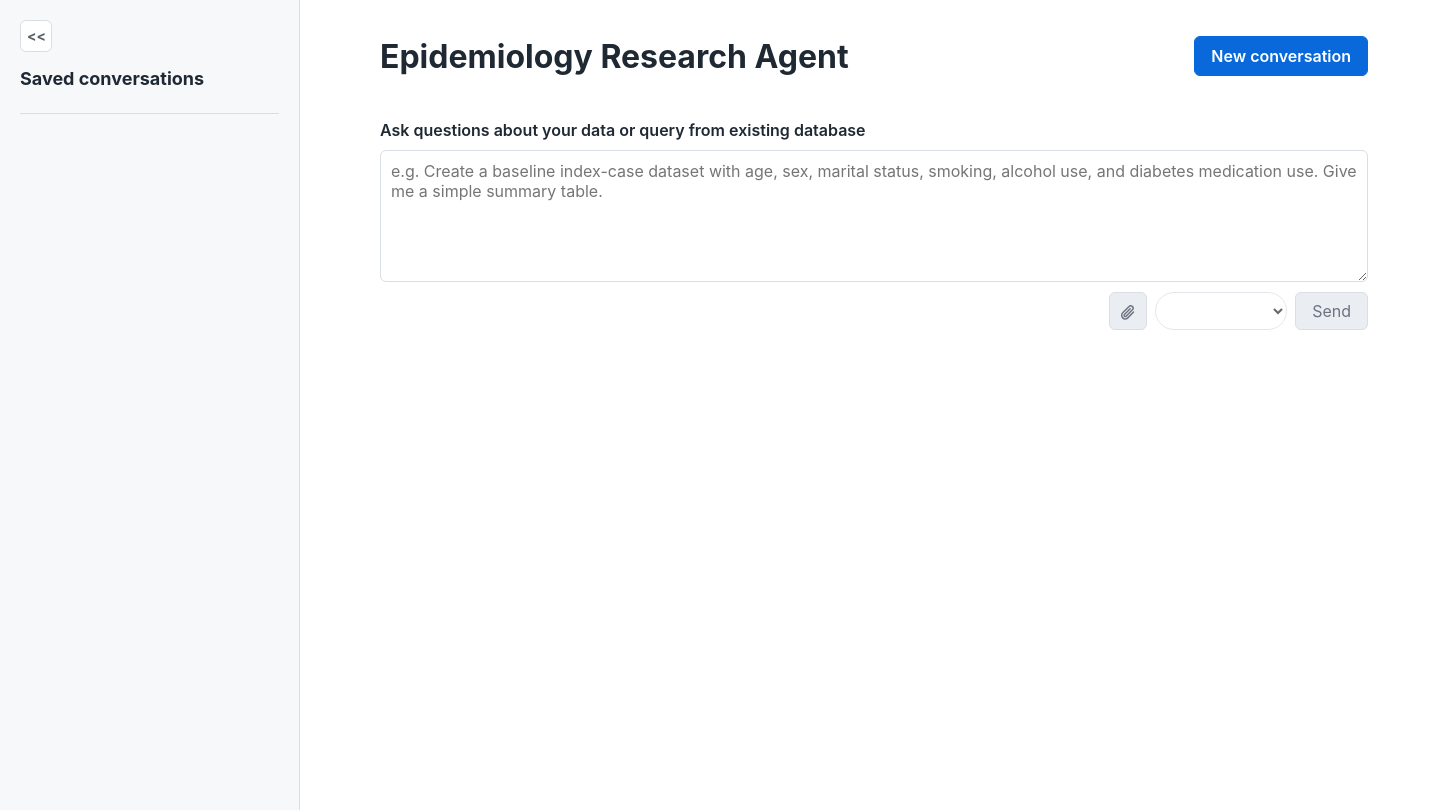
Test: App › hides confusing internal activity milestone awaiting_clarification while the agent is running
The width and height of the screenshot is (1440, 810).
Replace the text in the text box named "Ask a question about your dataset!" with "Use cohort 1" at (874,216), box [380,150,1368,282]
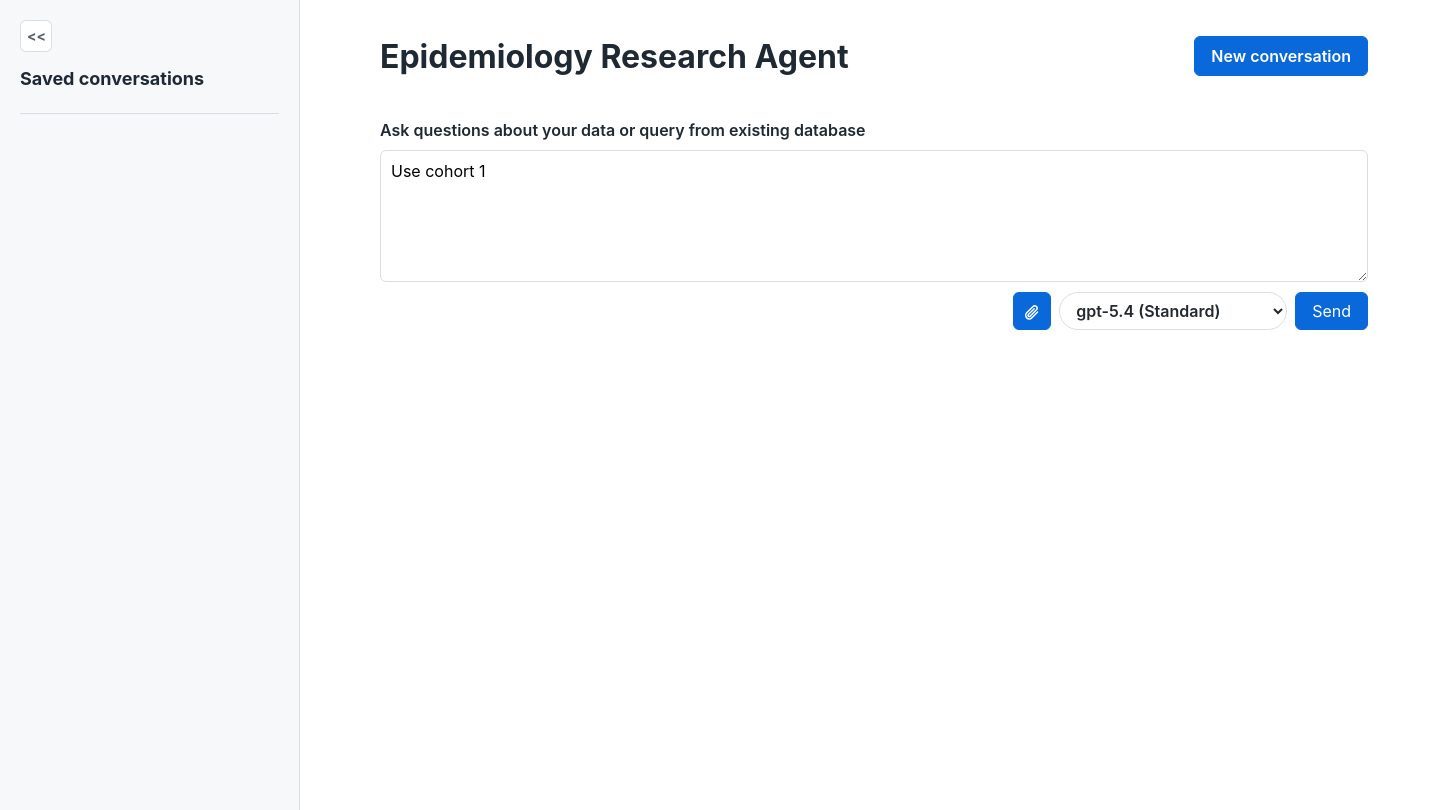
Click the button "Send" at (1332,311), box [1295,292,1368,330]
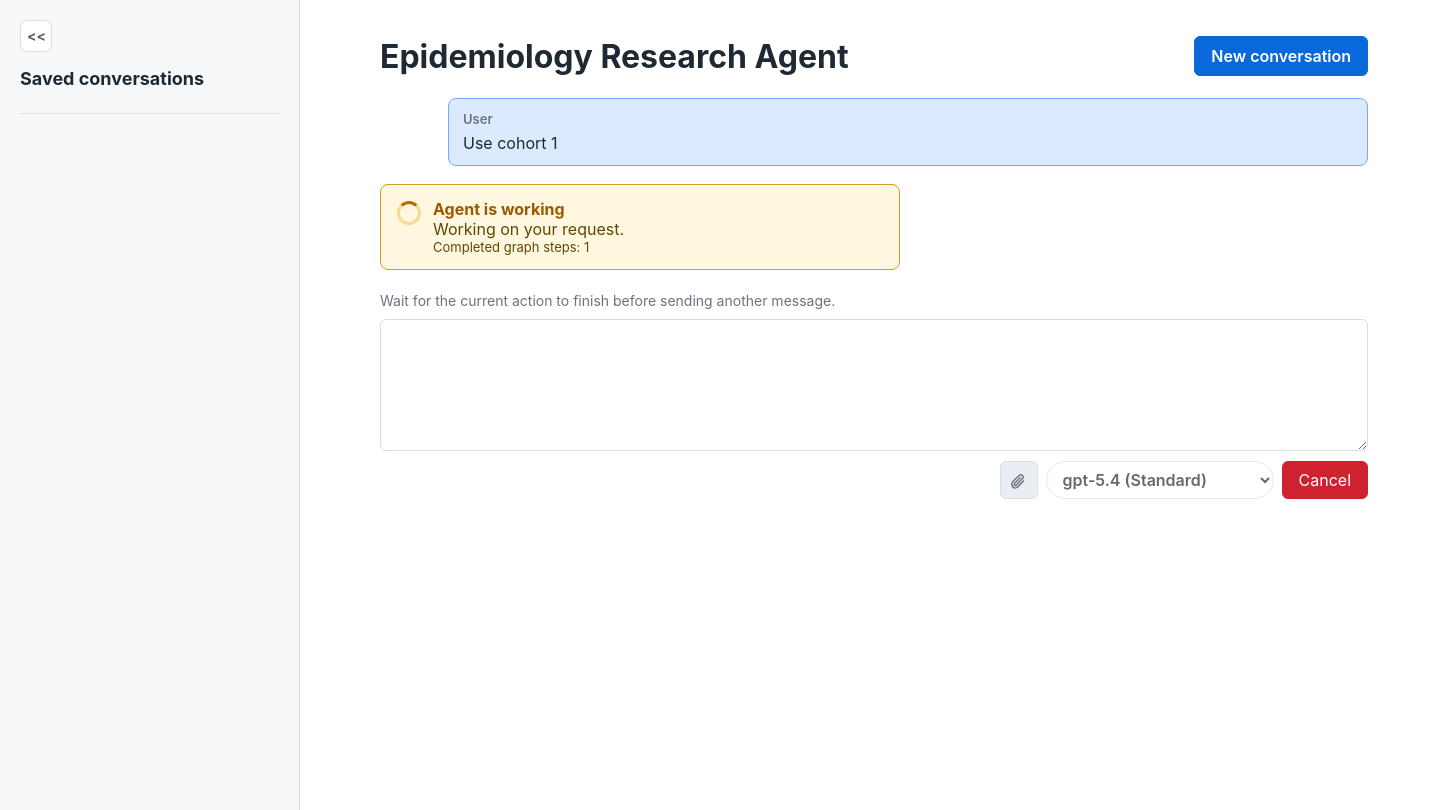
Expected: the element named "Agent activity" does not show "awaiting_clarification", [380,184,900,270]
Expected: the element named "Agent activity" shows "Agent is working", [433,199,565,219]
Expected: the element named "Agent activity" shows "Working on your request.", [433,219,624,239]
